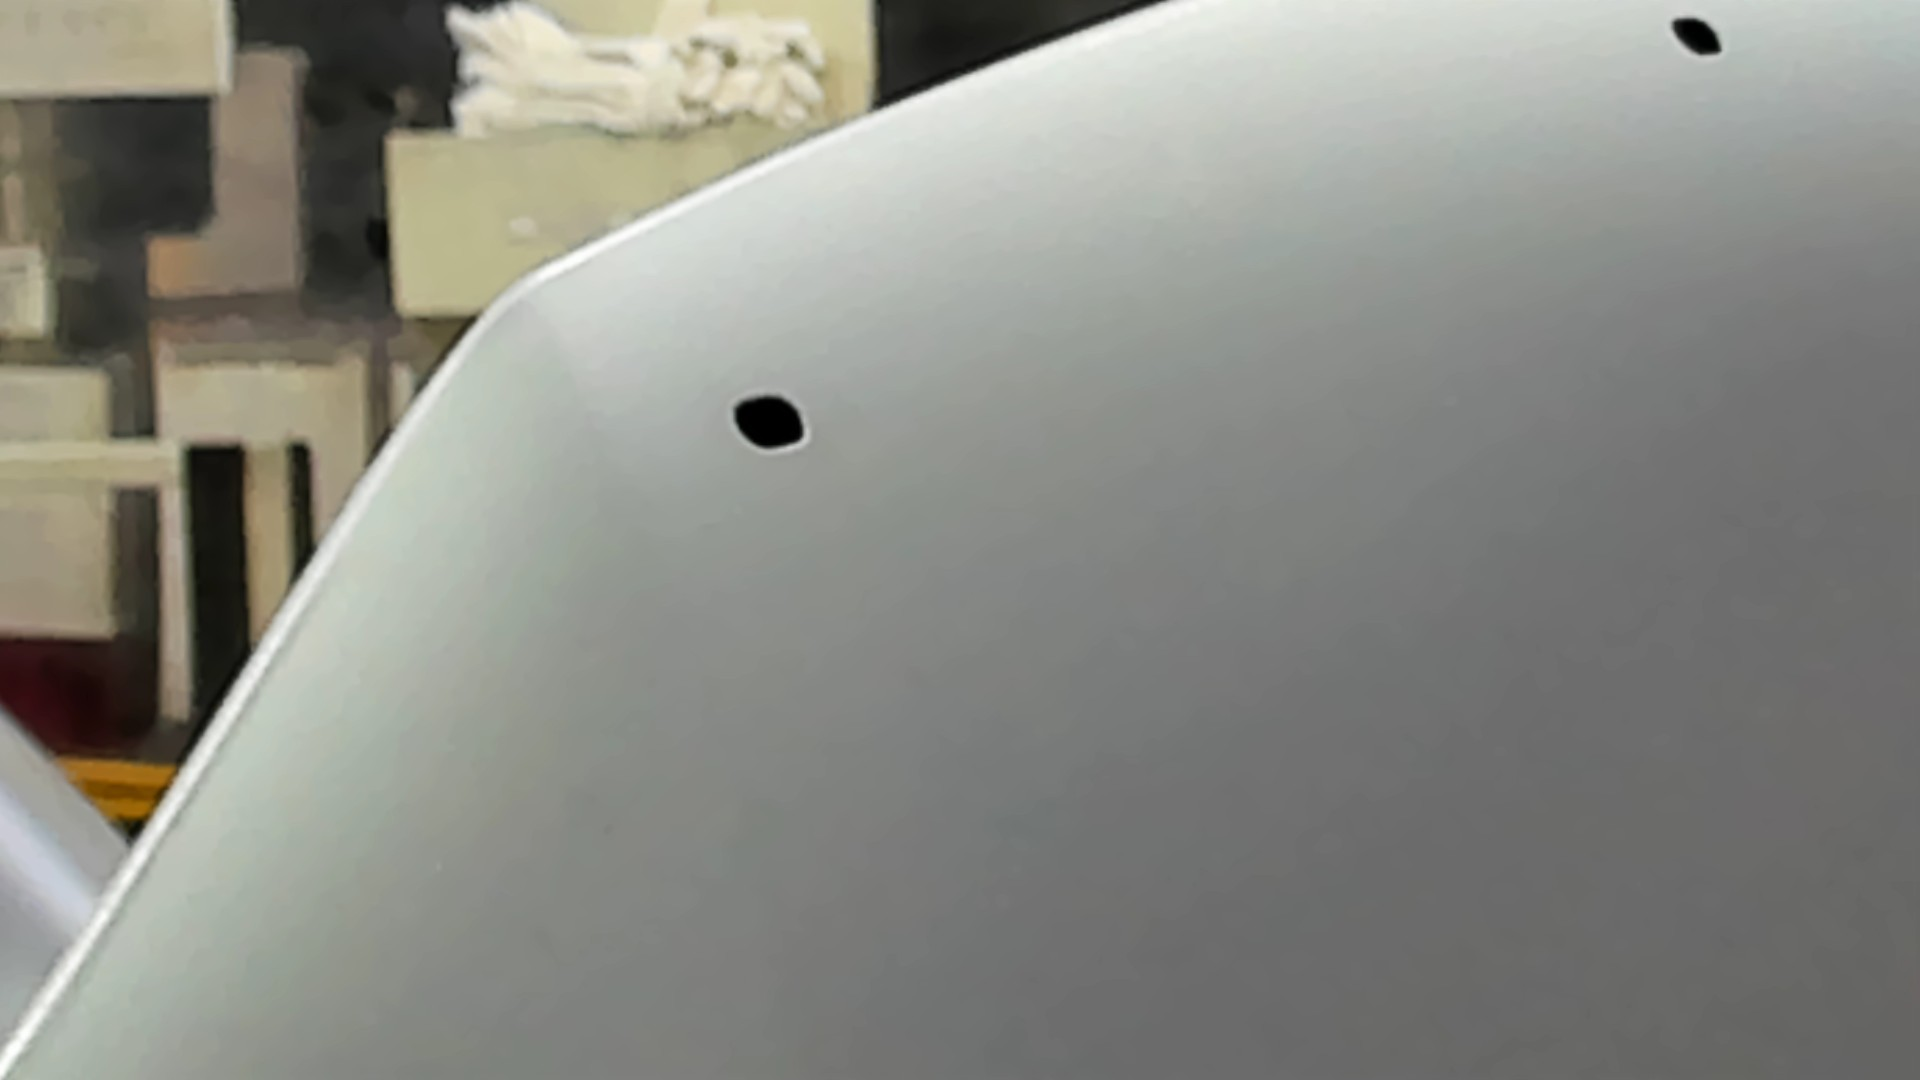amorfo: (725, 390, 814, 456), (1662, 9, 1731, 61)
